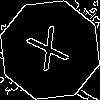X: (25, 25, 77, 81)
